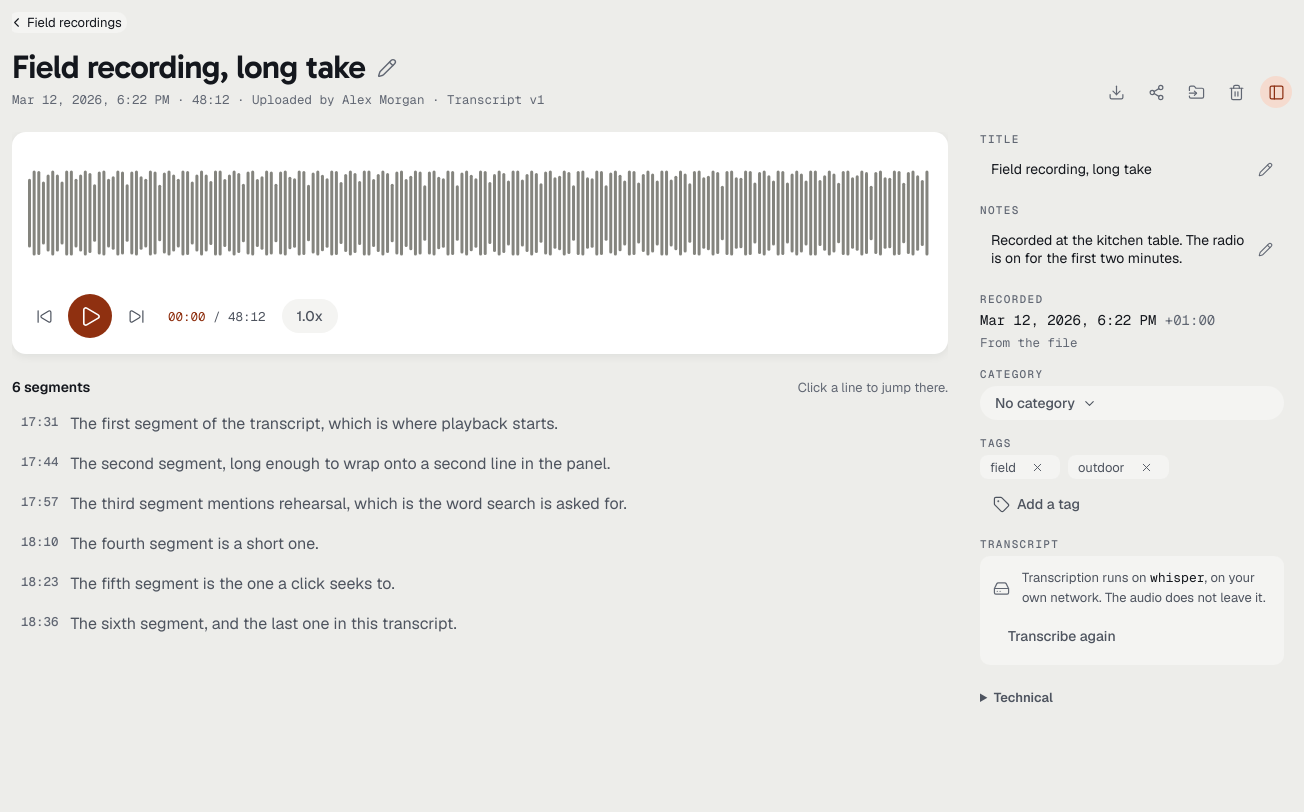
Test: the speed control › offers the six rates and sets the one that is chosen
Click the button named "Playback speed, now 1.0x": (310, 316) x1=282 y1=299 x2=338 y2=333
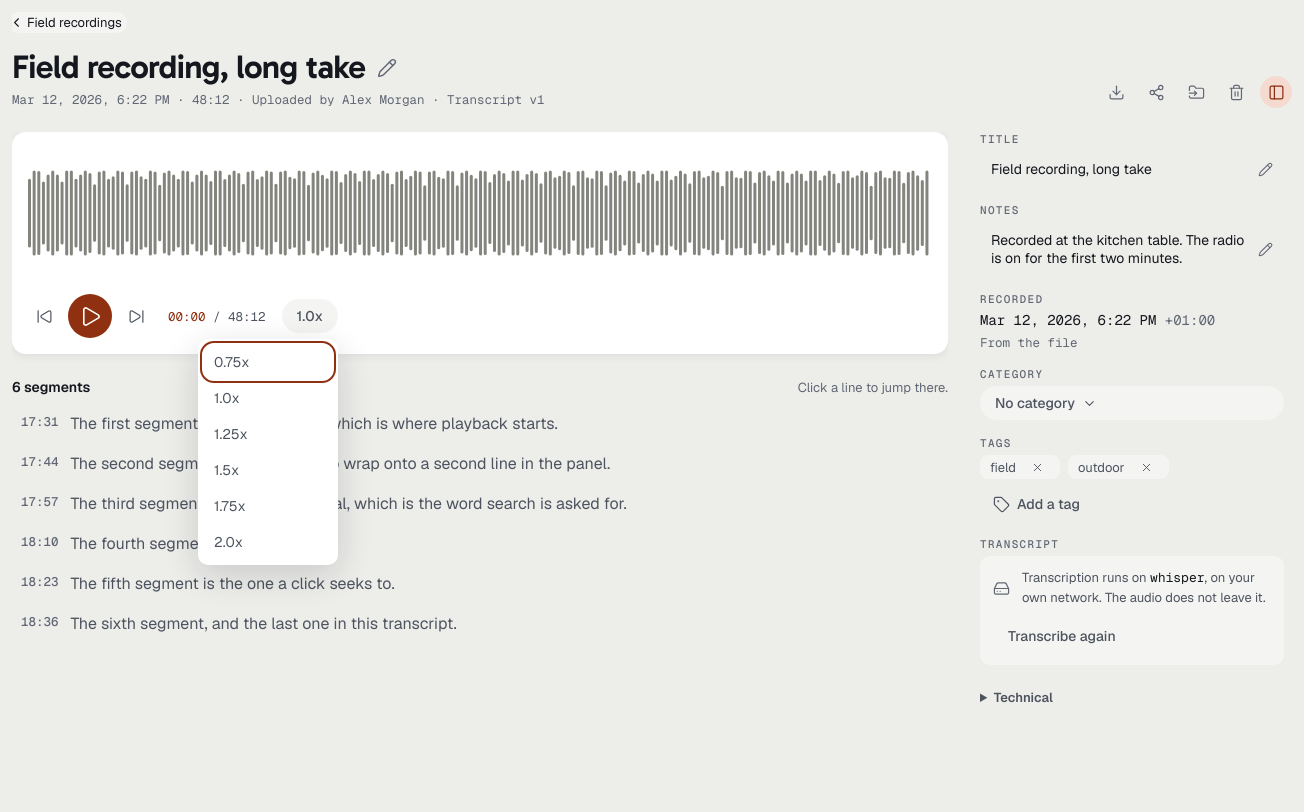
Click the menu item "1.5x": (268, 470) x1=204 y1=453 x2=332 y2=487
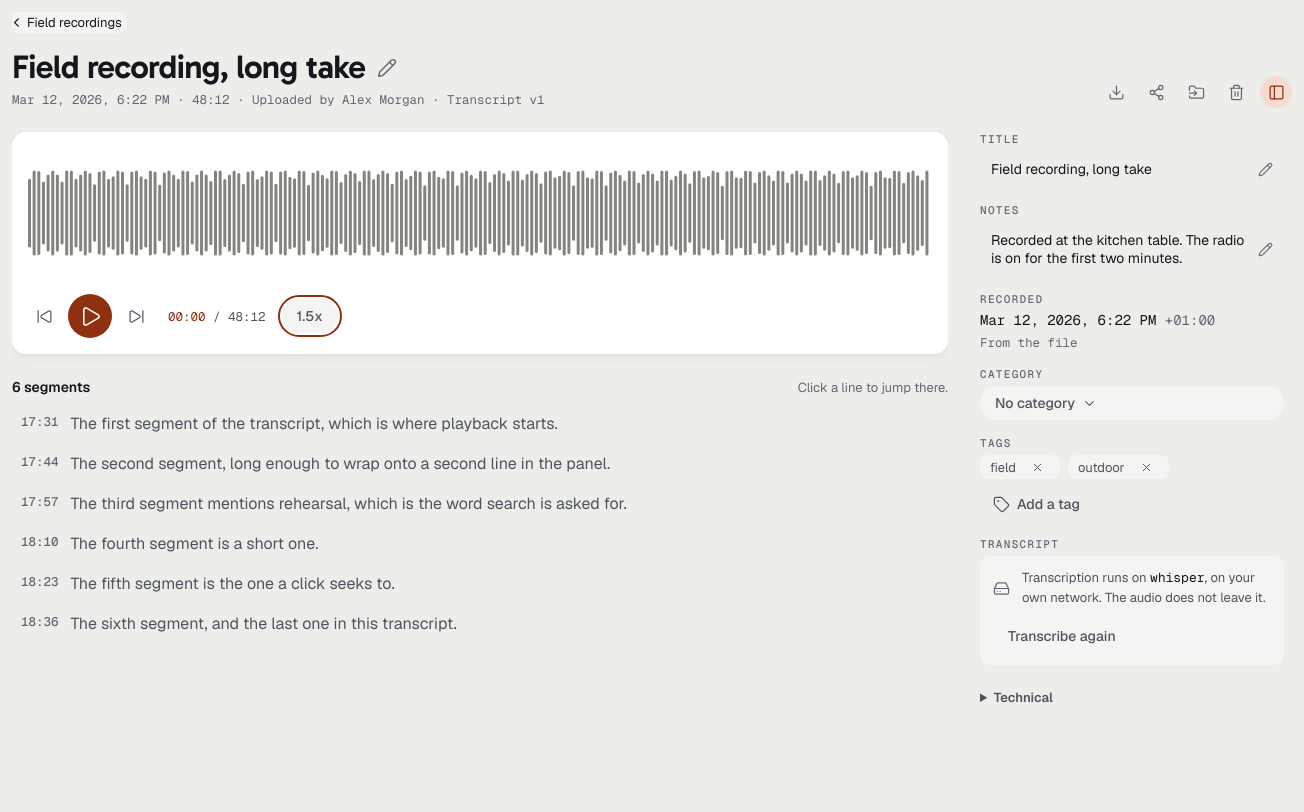
Check: the button named "now 1.5x" is shown, box x1=282 y1=299 x2=338 y2=333
